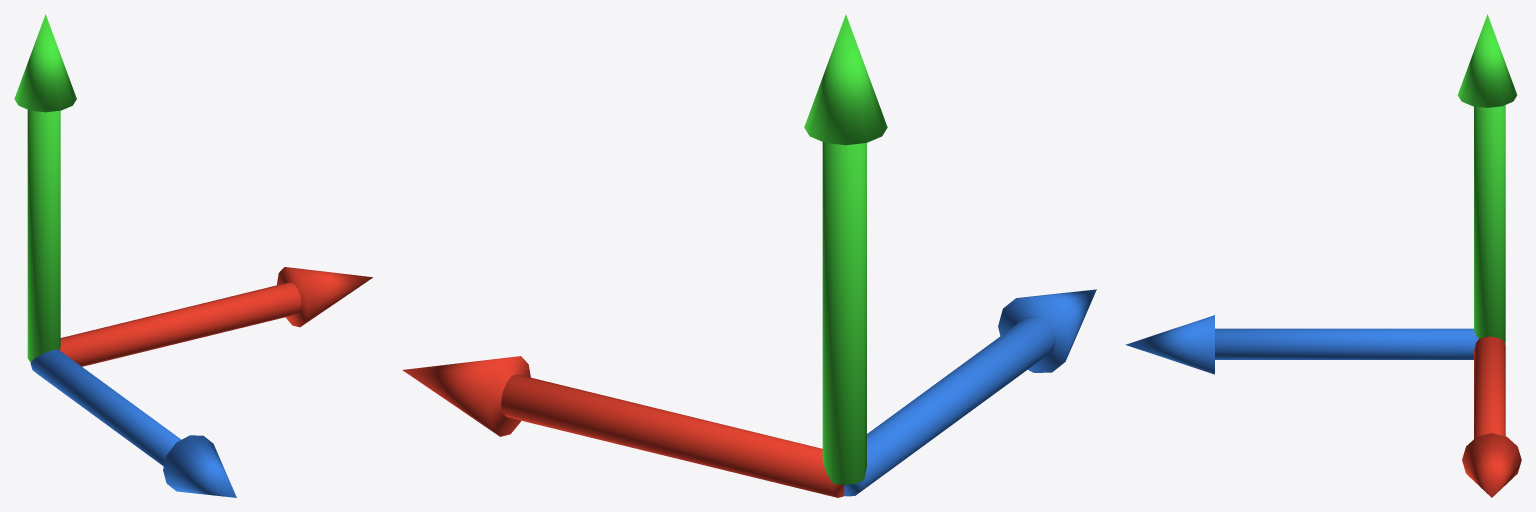
File: origin3d.glb
The picture shows the model from 3 angles, left to right: view 1: azimuth 30°, elevation 25°; view 2: azimuth 150°, elevation 25°; view 3: azimuth 270°, elevation 25°; orthographic projection. The views are drawn at different scales.
Visible parts, largest first — view 1: Cylinder.002, Cylinder.001, Cylinder, Cone.002, Cone, Cone.001; view 2: Cylinder.002, Cylinder.001, Cylinder, Cone.002, Cone.001, Cone; view 3: Cylinder, Cylinder.002, Cylinder.001, Cone.002, Cone, Cone.001.
Boxes of the visible parts, <box> form: Cylinder.002: <box>27,110,60,361</box>; Cylinder.001: <box>59,282,301,366</box>; Cylinder: <box>30,349,181,466</box>; Cone.002: <box>14,14,76,112</box>; Cone: <box>163,435,236,497</box>; Cone.001: <box>277,267,372,327</box>; Cylinder.002: <box>822,142,866,484</box>; Cylinder.001: <box>501,374,844,497</box>; Cylinder: <box>844,316,1055,496</box>; Cone.002: <box>804,14,887,145</box>; Cone.001: <box>402,356,530,436</box>; Cone: <box>998,289,1096,372</box>; Cylinder: <box>1215,328,1478,359</box>; Cylinder.002: <box>1474,105,1505,343</box>; Cylinder.001: <box>1474,336,1505,438</box>; Cone.002: <box>1457,14,1517,107</box>; Cone: <box>1125,315,1214,374</box>; Cone.001: <box>1462,433,1521,497</box>.
Size of the model in its own units: 1.32 by 1.32 by 1.33.
